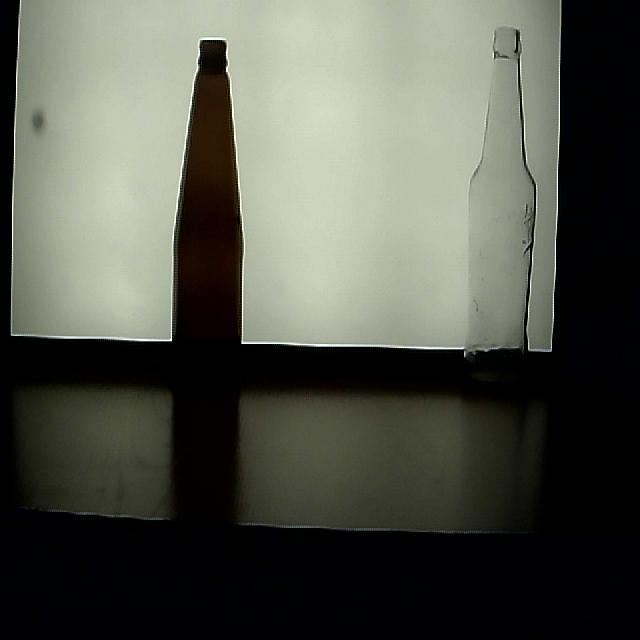Glass: (172, 39, 246, 404), (464, 24, 536, 392)
